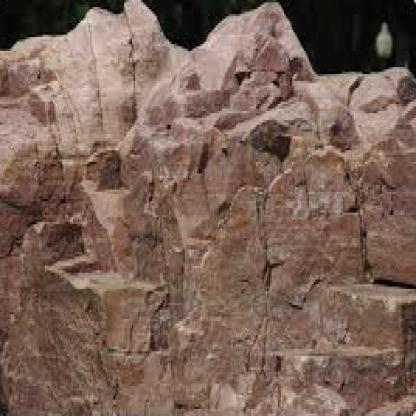Metamorphic_Quartize: (51, 252, 166, 393), (179, 0, 312, 111), (183, 176, 264, 358), (61, 5, 138, 150), (2, 88, 52, 310), (226, 113, 324, 206), (313, 282, 413, 367), (341, 62, 416, 164), (358, 185, 415, 277)
